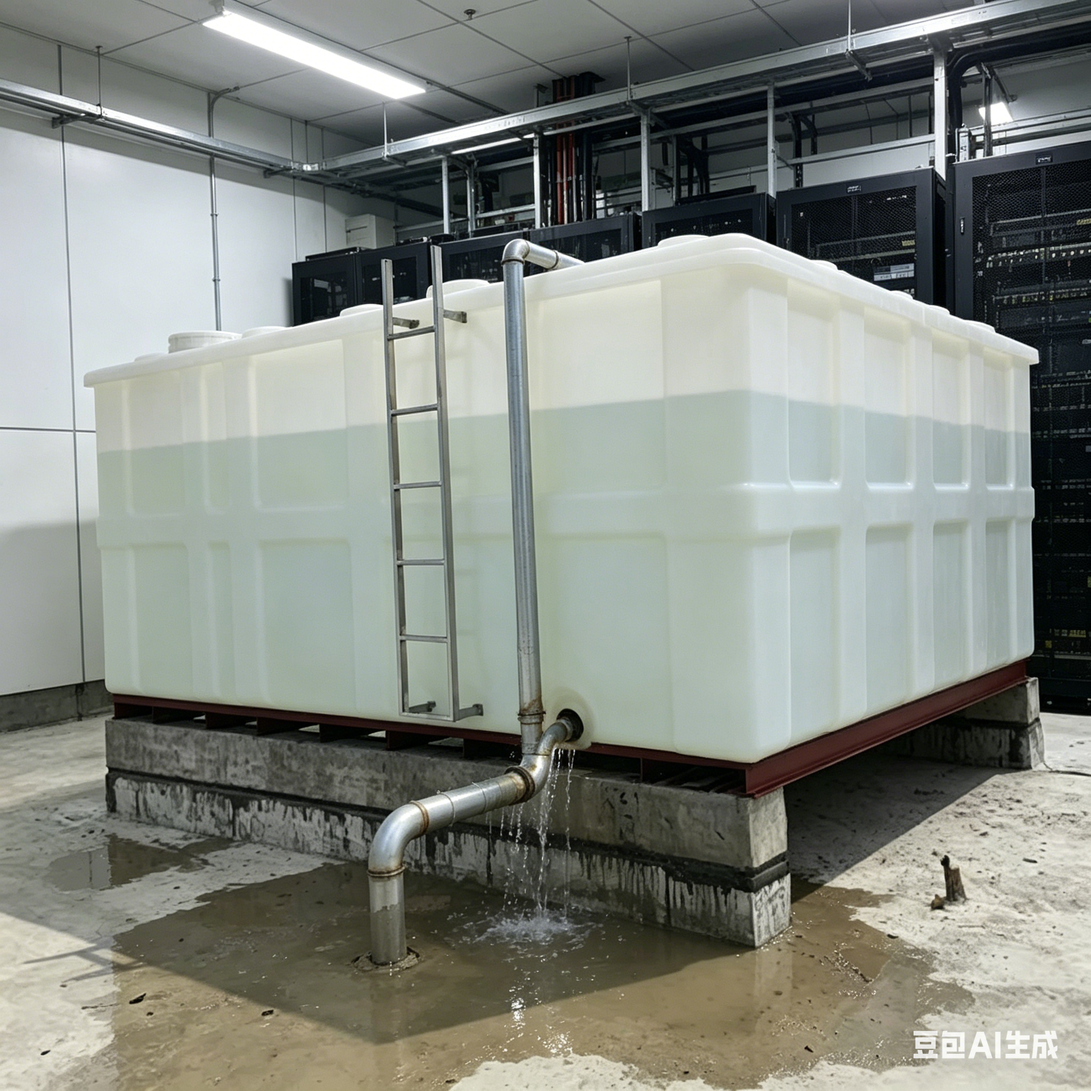Leakage: (138, 925, 467, 1091), (481, 708, 630, 1049), (640, 931, 961, 1073), (229, 872, 477, 925), (54, 834, 168, 880)
